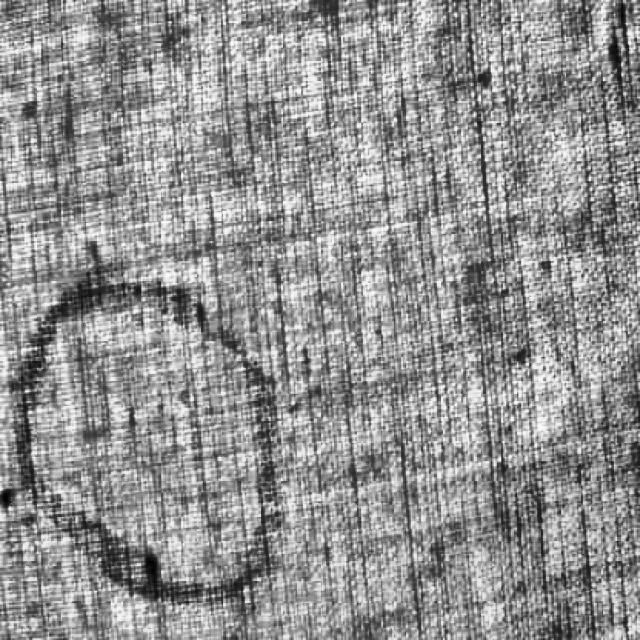oil_spot: (8, 252, 304, 610)
